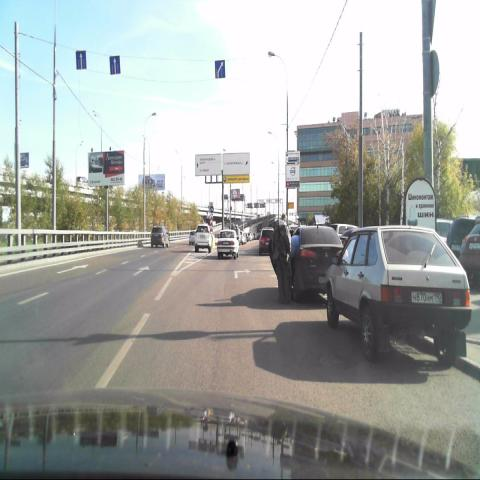5_15_2: (76, 48, 88, 72)
